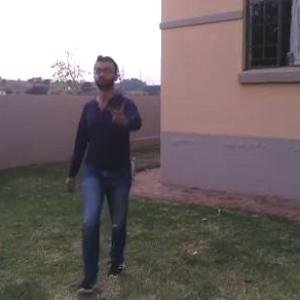takeoff-hand: (108, 103, 130, 130)
